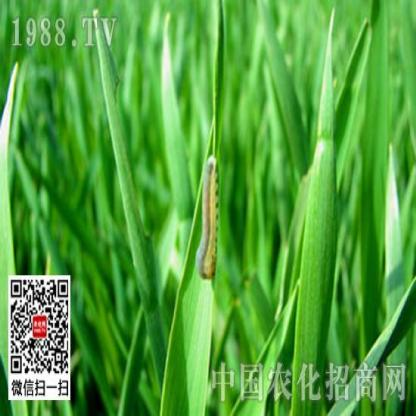sawfly: (194, 149, 223, 284)
